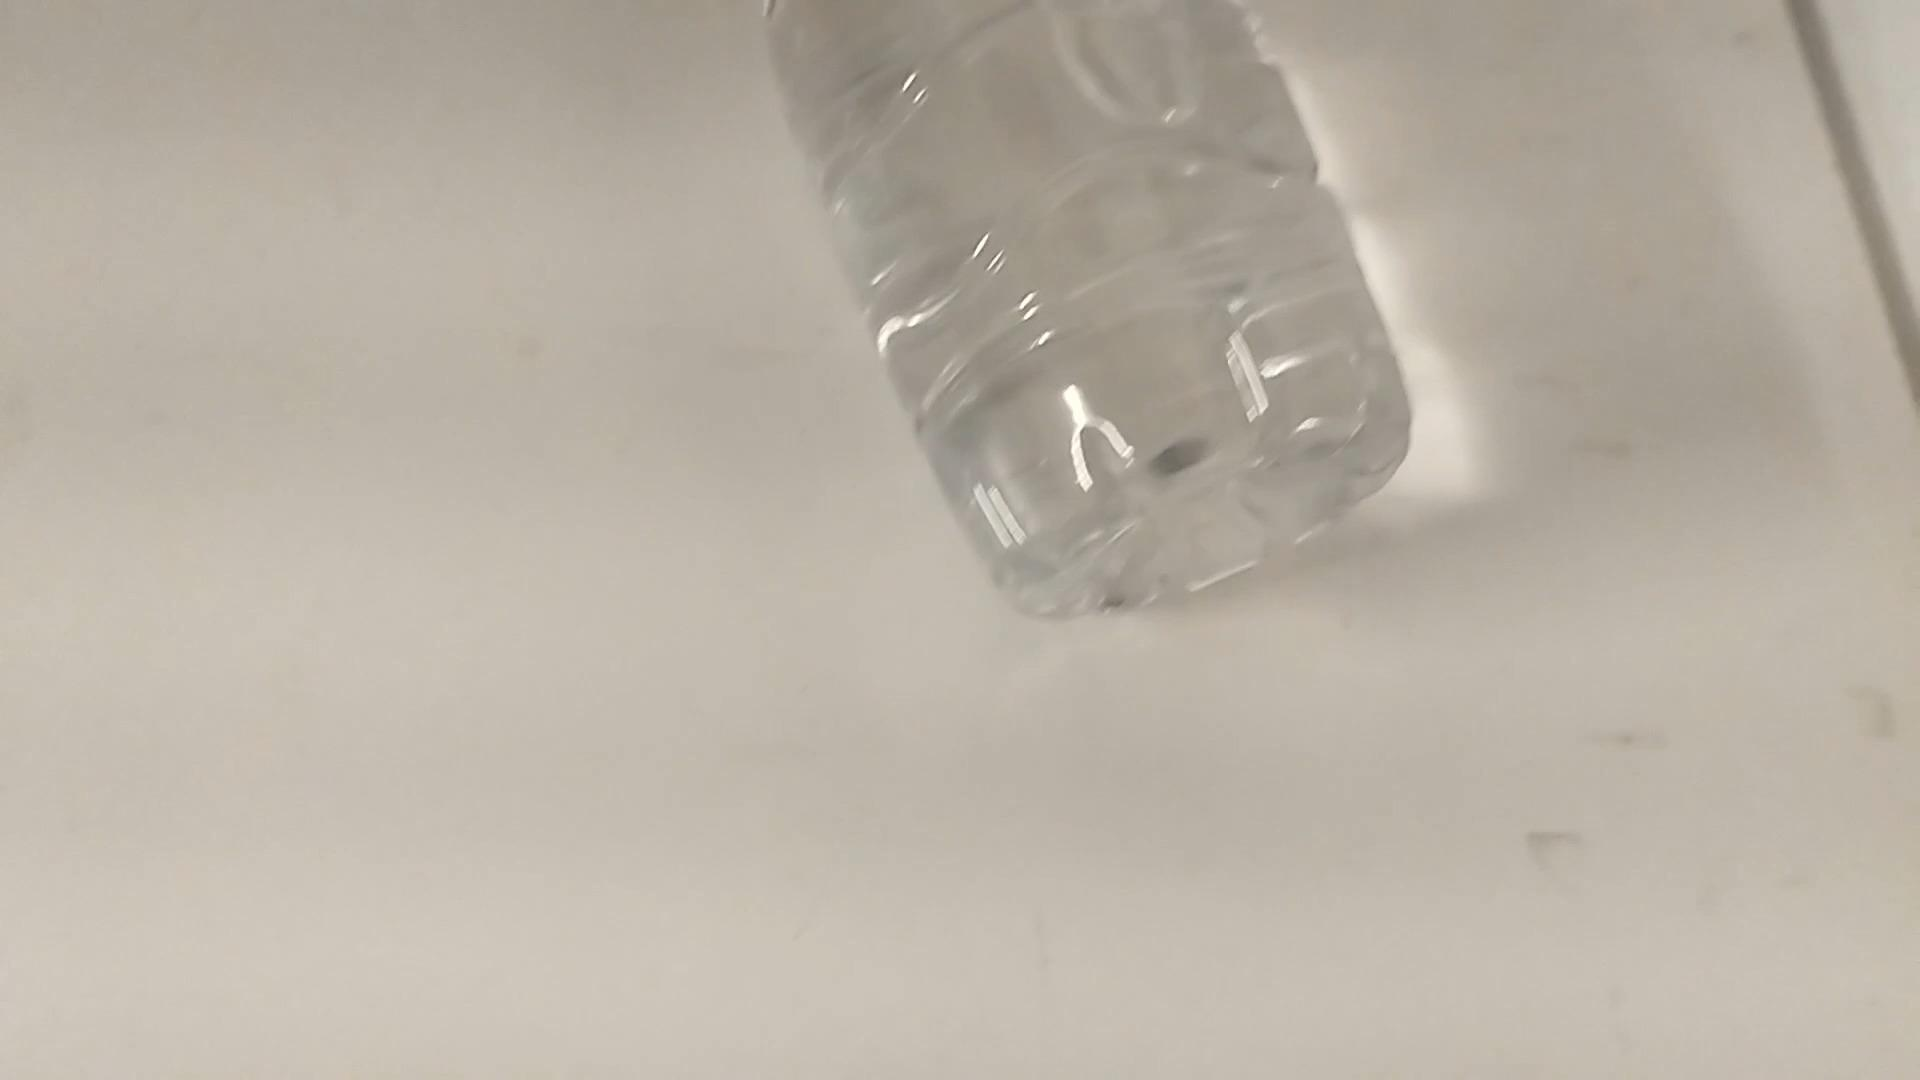agua: (738, 0, 1415, 630)
